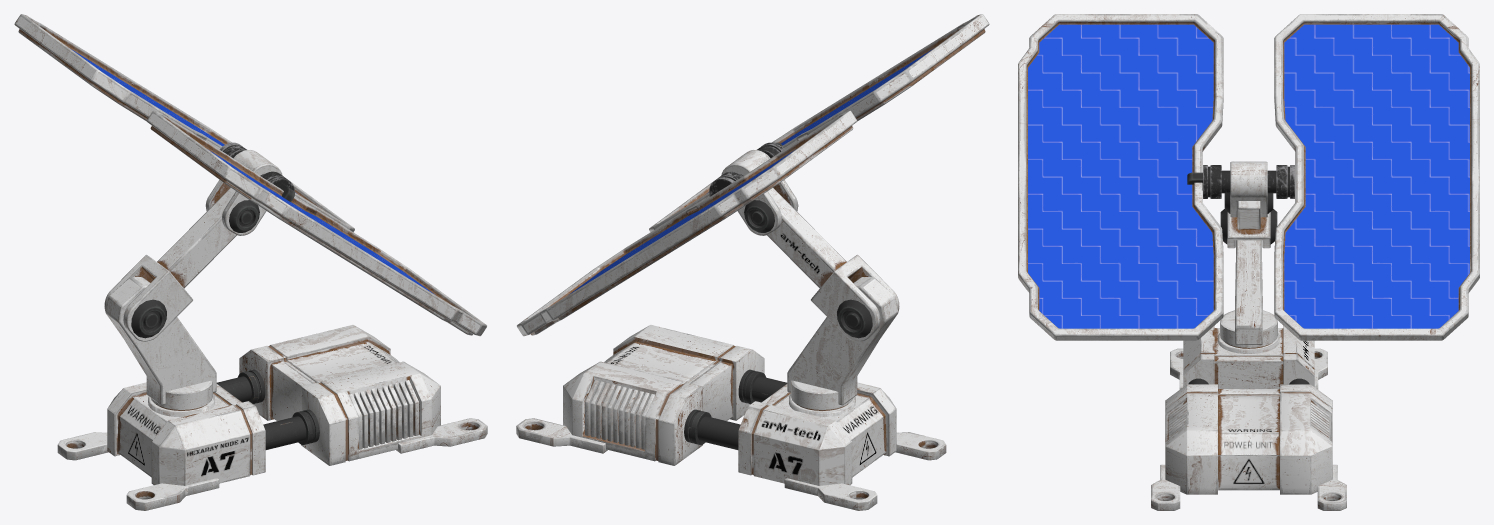
Rendered from HexaRay Node - For texturing.glb.
3 views of the same model, side by side, from view 1: azimuth 30°, elevation 25°; view 2: azimuth 150°, elevation 25°; view 3: azimuth 270°, elevation 25° (orthographic). The views are drawn at different scales.
Visible parts, largest first — view 1: Solar Panel Base, Front Unit, Back Base Support, Top Arm, Base Arm, Side Vents, Back Bottom base support, Power redirect, Solar Mirrors, Frot Base Support, Panel Rotar Parent, Base Rotar (+3 smaller); view 2: Solar Panel Base, Front Unit, Back Base Support, Top Arm, Base Arm, Side Vents, Back Bottom base support, Power redirect, Solar Mirrors, Frot Base Support, Panel Rotar Parent, Base Rotar (+3 smaller); view 3: Solar Mirrors, Solar Panel Base, Front Unit, Back Base Support, Base Arm, Frot Base Support, Panel Rotar Parent, Panel Rotar, Top Arm, Base Rotar, Side Vents, Back Bottom base support.
Part boxes in pixels (<box>): Solar Panel Base: <box>14,14,486,336</box>; Front Unit: <box>239,325,440,465</box>; Back Base Support: <box>107,382,265,485</box>; Top Arm: <box>104,188,236,341</box>; Base Arm: <box>105,277,216,405</box>; Side Vents: <box>349,380,418,449</box>; Back Bottom base support: <box>57,432,219,510</box>; Power redirect: <box>216,369,319,449</box>; Solar Mirrors: <box>71,49,434,294</box>; Frot Base Support: <box>391,355,487,453</box>; Panel Rotar Parent: <box>205,150,282,235</box>; Base Rotar: <box>151,380,212,410</box>; Solar Panel Base: <box>517,14,989,336</box>; Front Unit: <box>563,325,764,465</box>; Back Base Support: <box>738,382,896,485</box>; Top Arm: <box>767,188,899,341</box>; Base Arm: <box>787,277,898,405</box>; Side Vents: <box>585,380,654,449</box>; Back Bottom base support: <box>784,432,946,510</box>; Power redirect: <box>684,369,787,449</box>; Solar Mirrors: <box>569,49,932,294</box>; Frot Base Support: <box>516,355,612,453</box>; Panel Rotar Parent: <box>721,150,798,235</box>; Base Rotar: <box>791,380,852,410</box>; Solar Mirrors: <box>1028,24,1469,328</box>; Solar Panel Base: <box>1018,14,1479,340</box>; Front Unit: <box>1165,384,1332,494</box>; Back Base Support: <box>1183,326,1314,388</box>; Base Arm: <box>1235,240,1262,344</box>; Frot Base Support: <box>1151,464,1346,510</box>; Panel Rotar Parent: <box>1230,161,1267,217</box>; Panel Rotar: <box>1203,165,1294,198</box>; Top Arm: <box>1227,201,1270,248</box>; Base Rotar: <box>1220,310,1277,348</box>; Side Vents: <box>1168,402,1329,439</box>; Back Bottom base support: <box>1170,348,1327,389</box>.
Bounding box in the file's own units: 7.05 × 7.56 × 8.9.
7 materials, 7 textured.
